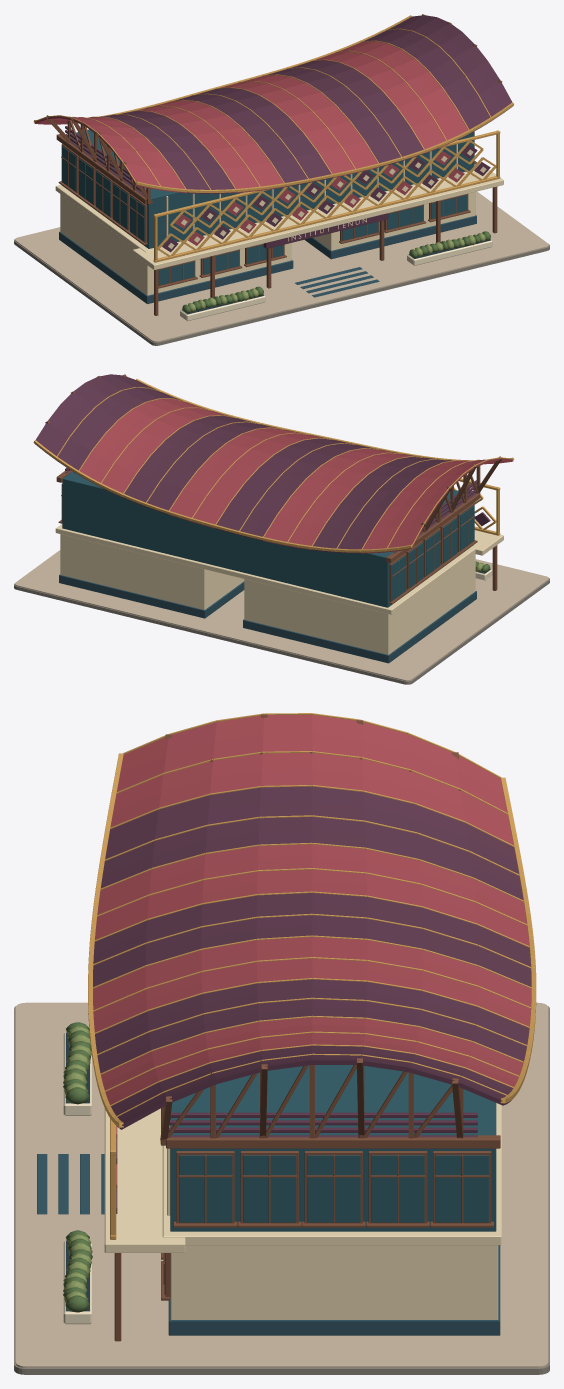
The picture shows the model from 3 angles, top to bottom: view 1: azimuth 30°, elevation 25°; view 2: azimuth 150°, elevation 25°; view 3: azimuth 270°, elevation 25°; orthographic projection. The views are drawn at different scales.
Visible parts, largest first — view 1: Shuttle Roof, Teaching Wings, Entry Court, Songket Screen; view 2: Shuttle Roof, Teaching Wings, Entry Court, Songket Screen; view 3: Shuttle Roof, Teaching Wings, Entry Court, Songket Screen.
Part boxes in pixels (bbox=[...]): Shuttle Roof: bbox=[33, 14, 513, 203]; Teaching Wings: bbox=[55, 129, 503, 315]; Entry Court: bbox=[14, 191, 549, 345]; Songket Screen: bbox=[153, 130, 500, 262]; Shuttle Roof: bbox=[33, 374, 514, 553]; Teaching Wings: bbox=[55, 470, 503, 663]; Entry Court: bbox=[14, 550, 549, 684]; Songket Screen: bbox=[454, 478, 500, 535]; Shuttle Roof: bbox=[88, 713, 536, 1145]; Teaching Wings: bbox=[104, 1065, 501, 1341]; Entry Court: bbox=[14, 1002, 549, 1374]; Songket Screen: bbox=[110, 1118, 117, 1239].
Bounding box in the file's own units: 30.3 × 11.84 × 18.8.
